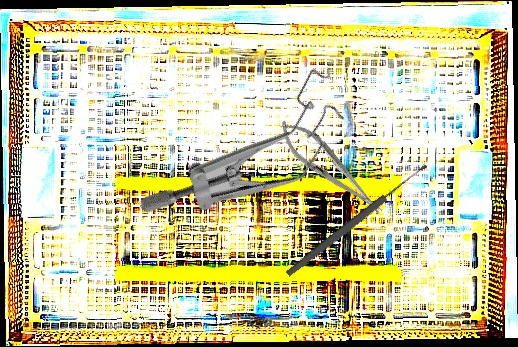Needle Holder: (269, 110, 392, 226)
Speculum: (136, 20, 364, 276)
Surgical Spoon: (284, 161, 430, 279)
